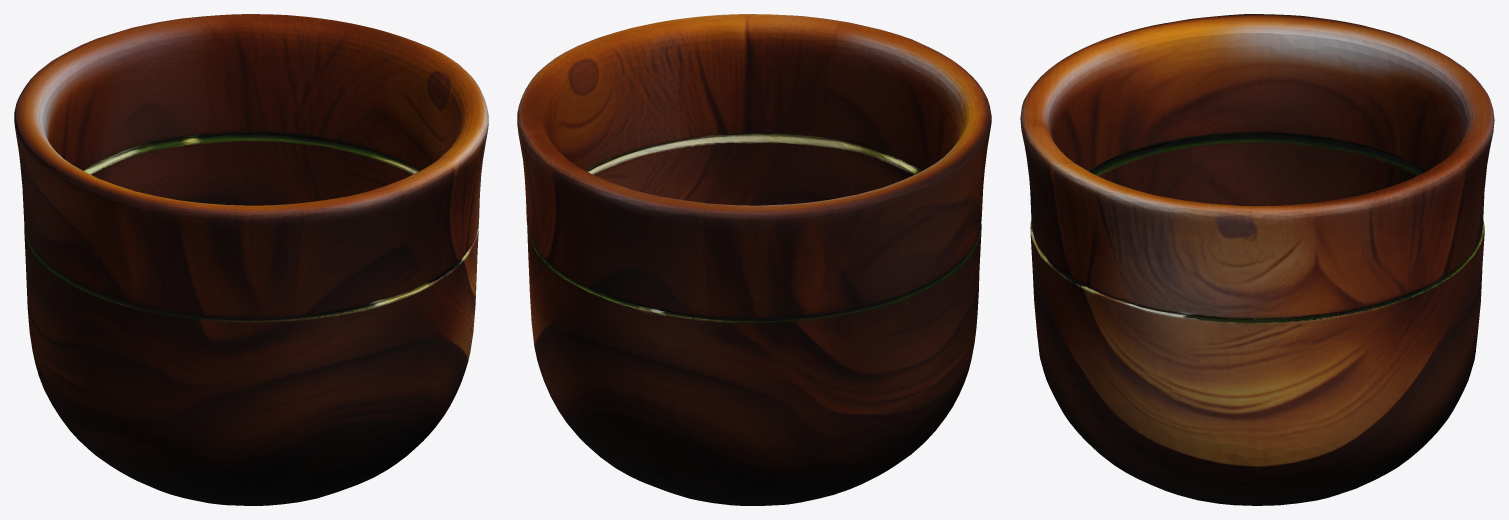
File: wooden-cup-futuristic.jpeg.glb
The picture shows the model from 3 angles, left to right: view 1: azimuth 30°, elevation 25°; view 2: azimuth 150°, elevation 25°; view 3: azimuth 270°, elevation 25°; orthographic projection.
Visible parts, largest first — view 1: world; view 2: world; view 3: world.
Part boxes in pixels (<box>): world: <box>14,14,488,505</box>; world: <box>517,14,991,505</box>; world: <box>1020,14,1494,505</box>.
Bounding box in the file's own units: 1 × 0.8051 × 1.
1 material, 1 textured.
